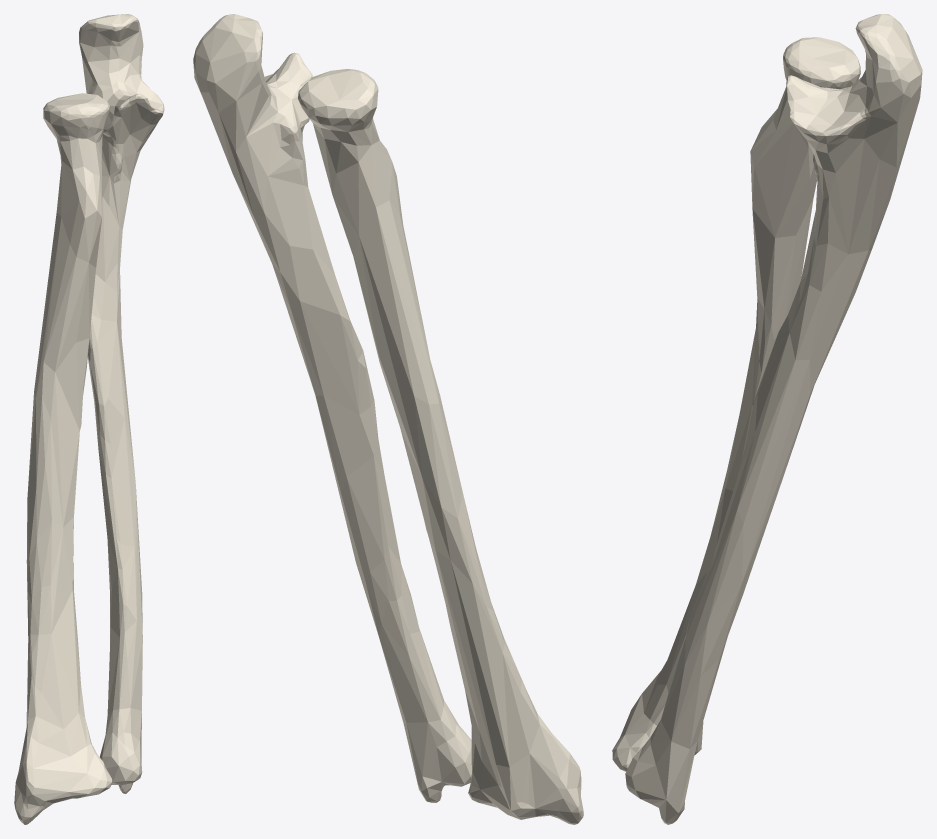
File: forearm-bone.glb
3 renders of one model, left to right at view 1: azimuth 30°, elevation 25°; view 2: azimuth 150°, elevation 25°; view 3: azimuth 270°, elevation 25°, orthographic. The views are drawn at different scales.
Parts seen in each view (by area): view 1: radius__BP8464, ulna__BP8233; view 2: ulna__BP8233, radius__BP8464; view 3: ulna__BP8233, radius__BP8464.
Part boxes in pixels (left/top/right/bottom): radius__BP8464: left=14, top=93, right=112, bottom=824; ulna__BP8233: left=79, top=14, right=164, bottom=793; ulna__BP8233: left=193, top=14, right=471, bottom=802; radius__BP8464: left=298, top=69, right=583, bottom=824; ulna__BP8233: left=625, top=14, right=922, bottom=824; radius__BP8464: left=612, top=37, right=860, bottom=771.
Size of the model in its own units: 0.8265 by 2.47 by 0.8211.
